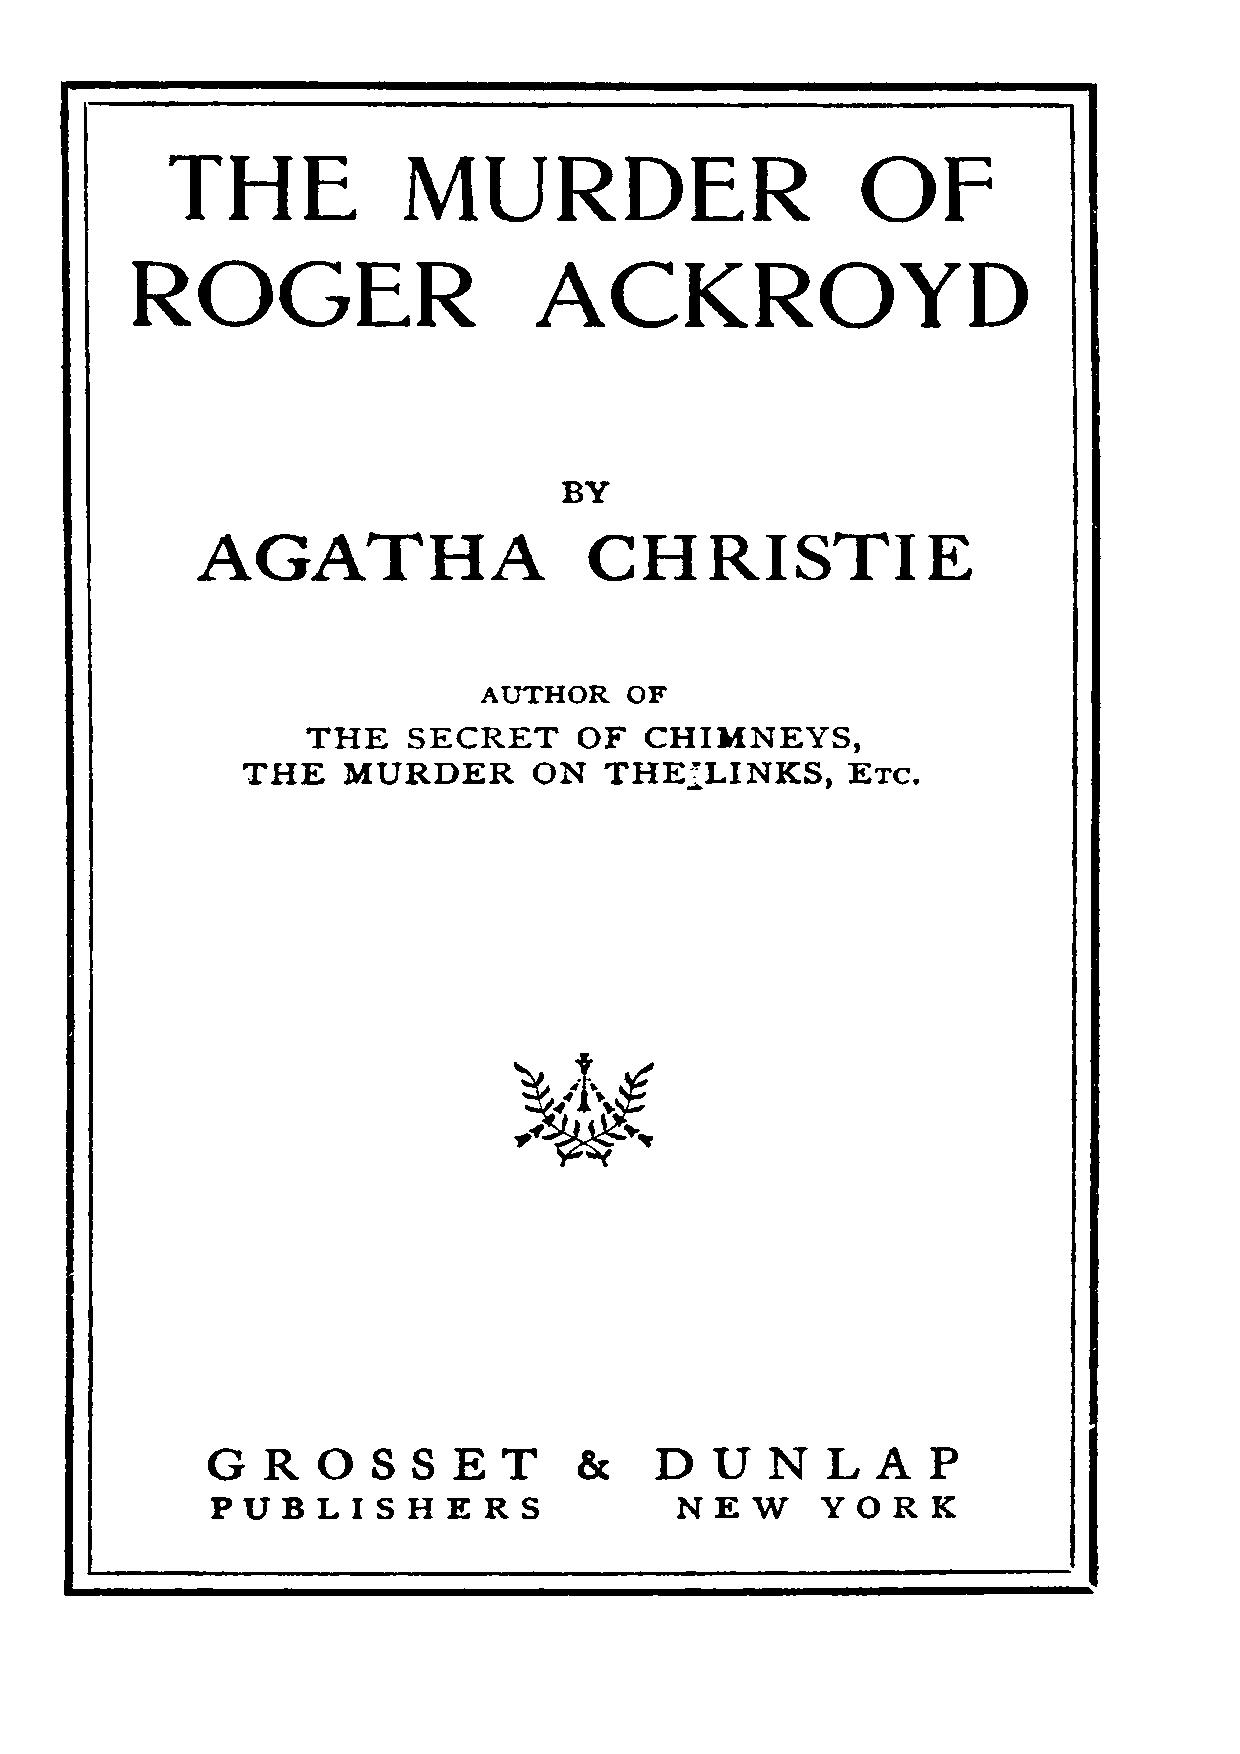author: (191, 478, 974, 582)
title: (127, 152, 1031, 330)
